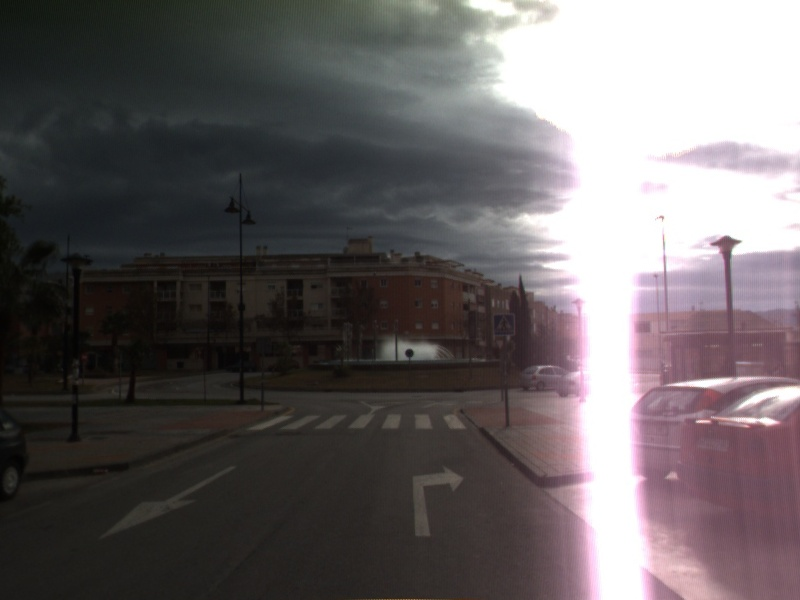RIGHT: (411, 463, 466, 538)
